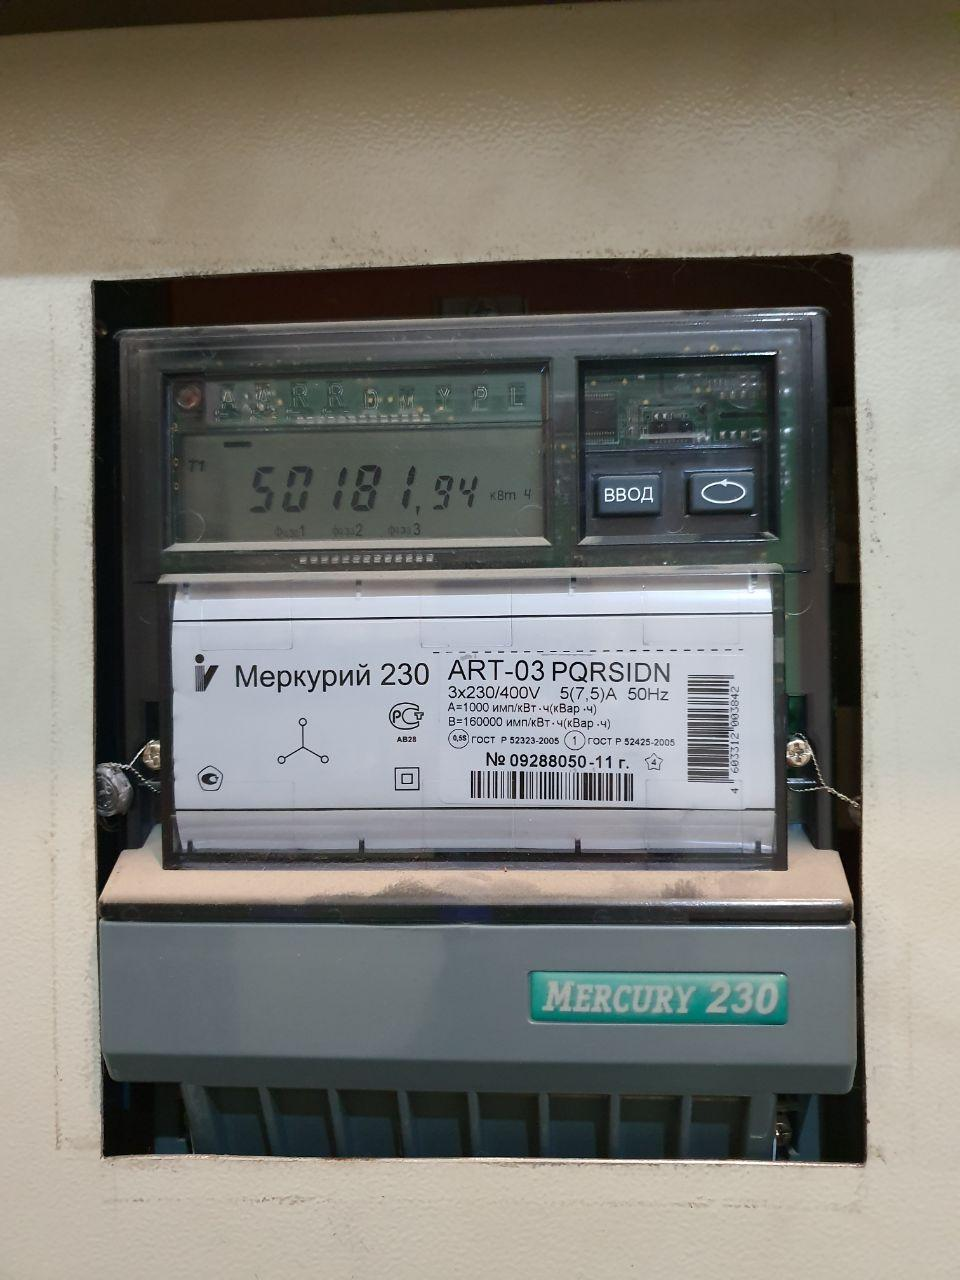counter: (104, 310, 867, 1172)
counter_screen: (162, 424, 557, 549)
